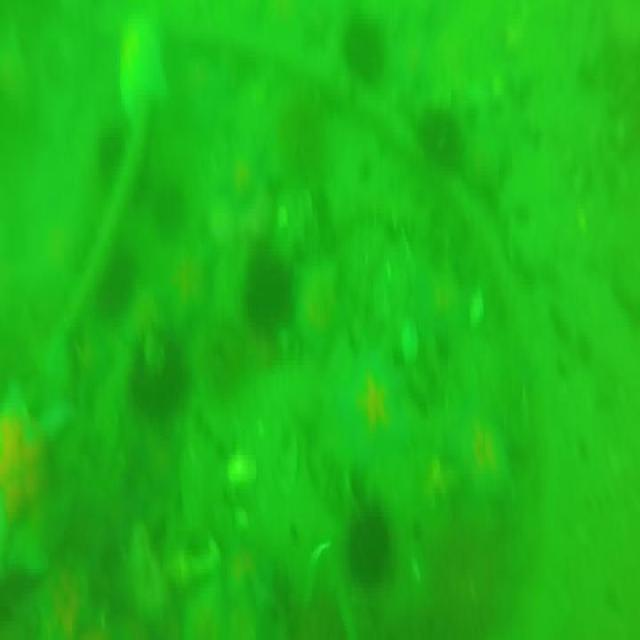echinus: (340, 344, 416, 470), (457, 408, 515, 512), (243, 248, 302, 345), (129, 338, 188, 421), (349, 506, 393, 590), (412, 101, 467, 164), (342, 14, 382, 84), (97, 253, 133, 311), (146, 190, 183, 240), (97, 123, 125, 180)
scallop: (229, 454, 259, 488)
starfish: (0, 381, 42, 536)
